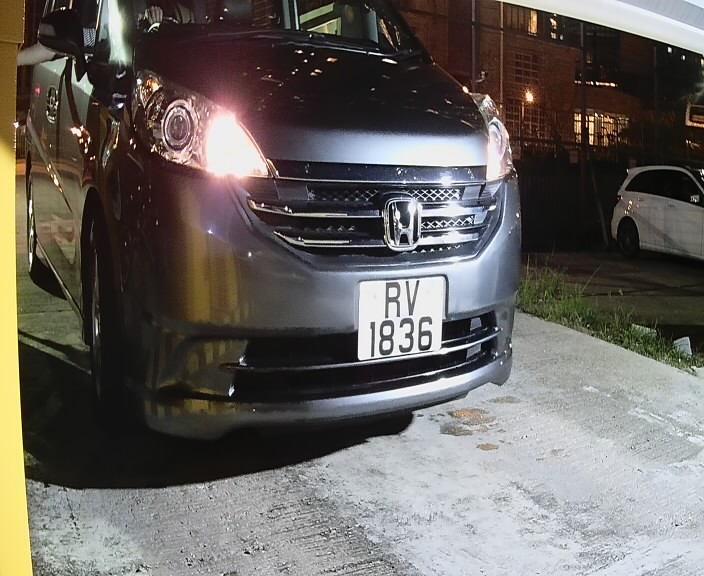Car: (43, 2, 555, 462)
License Plate: (353, 265, 457, 372)
